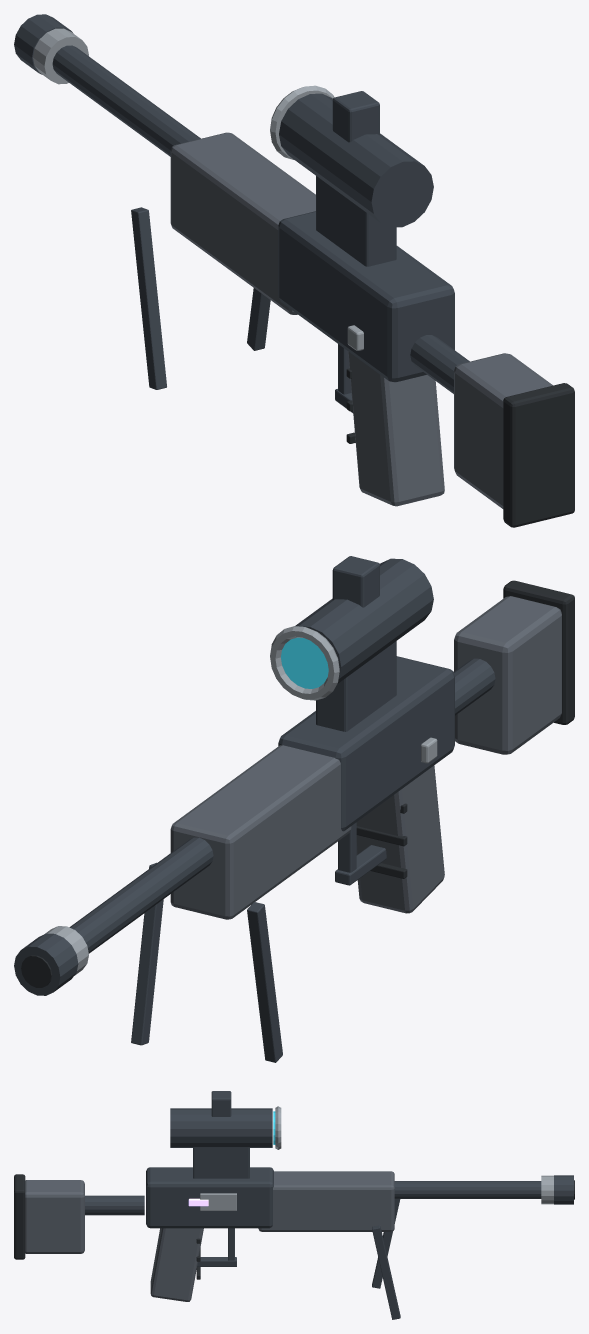
The model's file is precision.glb.
3 views of the same model, one above another, from view 1: azimuth 30°, elevation 25°; view 2: azimuth 150°, elevation 25°; view 3: azimuth 270°, elevation 25° (orthographic). The views are drawn at different scales.
Parts seen in each view (by area): view 1: Arma_precision; view 2: Arma_precision; view 3: Arma_precision.
Part boxes in pixels (box(x1,y1,x2,y2)): Arma_precision: box(14, 14, 574, 527); Arma_precision: box(14, 556, 574, 1062); Arma_precision: box(14, 1091, 574, 1319).
Bounding box in the file's own units: 0.285 × 0.809 × 1.97.
